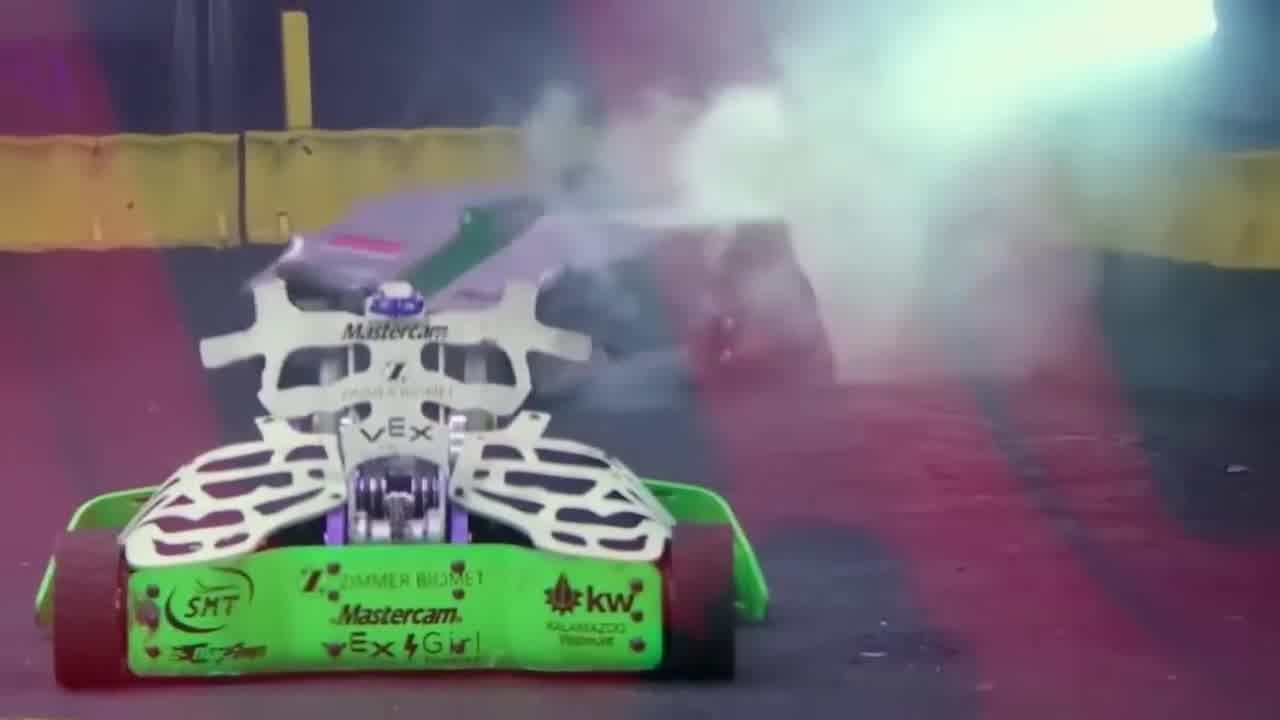combatbot: (30, 429, 774, 700), (232, 175, 830, 422)
